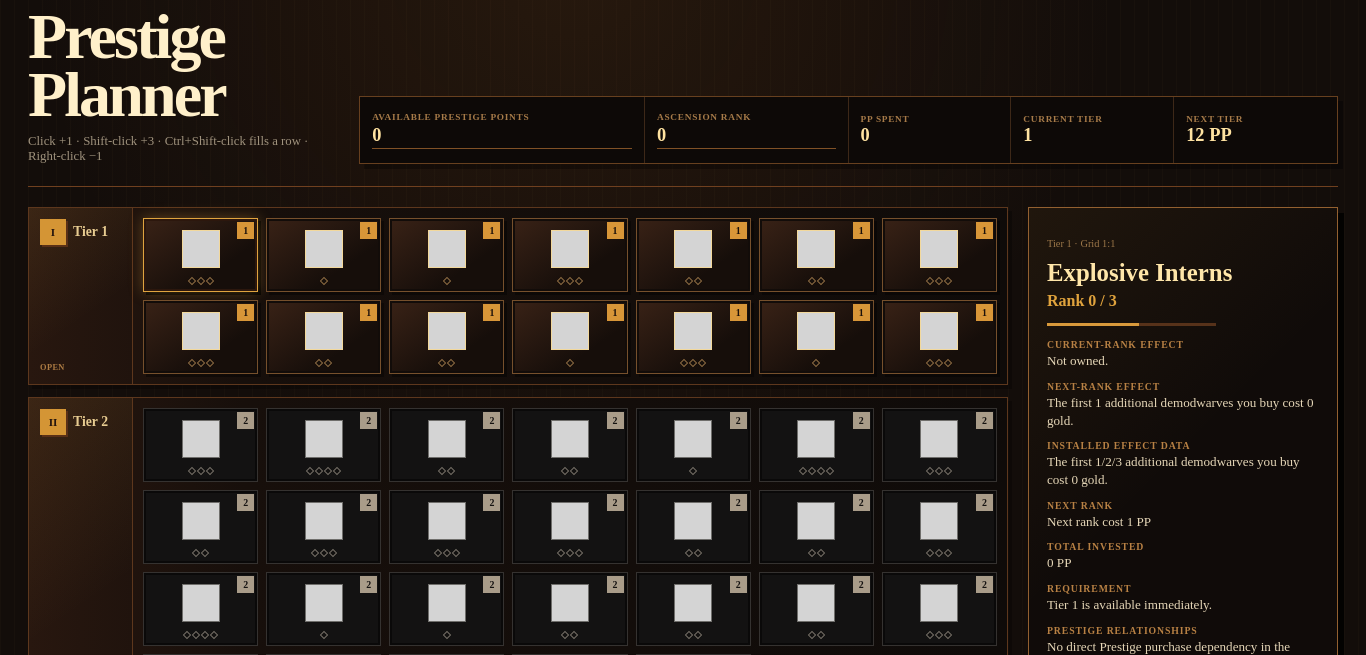
Test: PrestigePage › locks tiers until their exact spent thresholds are met
The image size is (1366, 655).
Focus the 5th button "2": {"x": 693, "y": 446} x1=636 y1=408 x2=751 y2=482
(page scrolled)
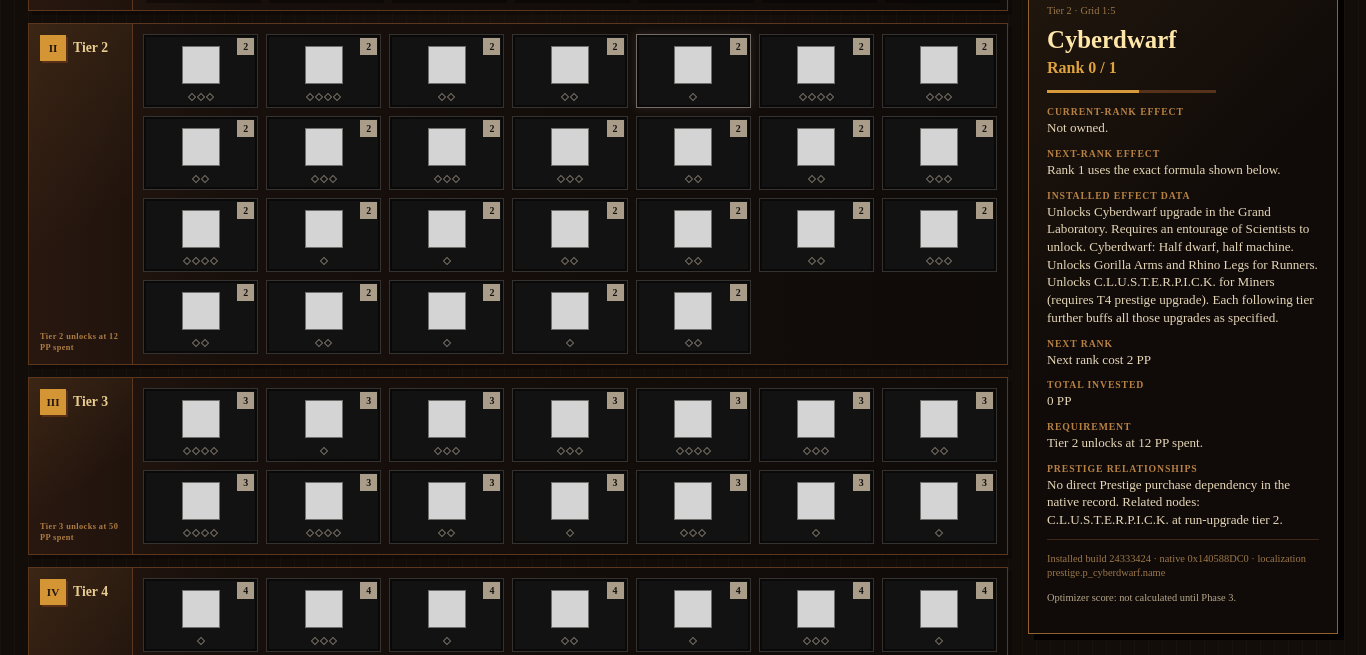
Expected: the text "Tier 2 unlocks at 12 PP spent" is shown, x1=40 y1=332 x2=121 y2=354
Result: the tooltip shows "Tier 2 unlocks at 12 PP spent" at x1=1047 y1=434 x2=1203 y2=450
